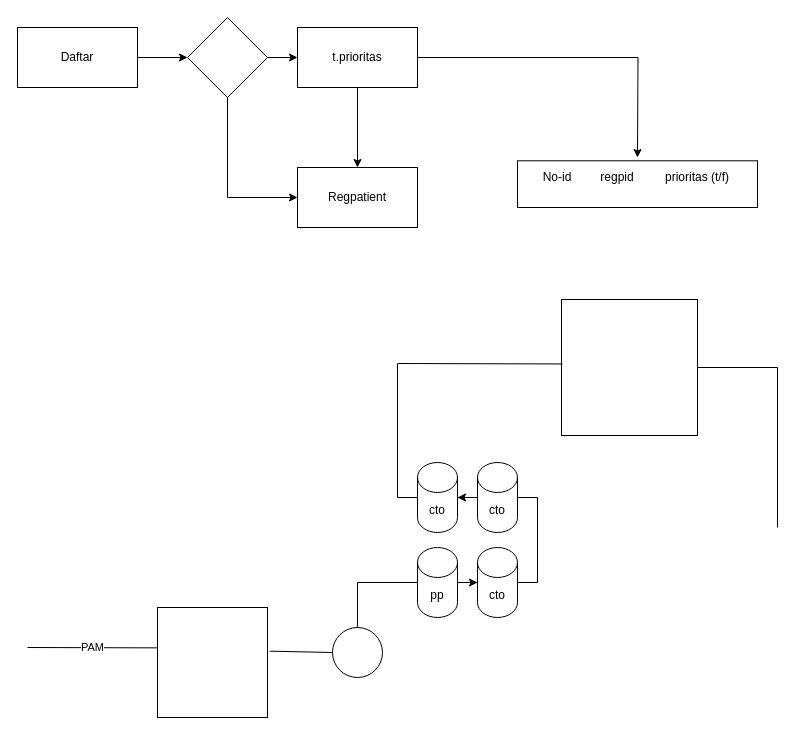
This 796x735 diagram has some shape labels left out. Here are the shapes that lost their labels. From the top down, the centre of each, then its label:
At (227,57): "prioritas/ bukan".
At (629,367): "Toren".
At (212,662): "penampungan".
